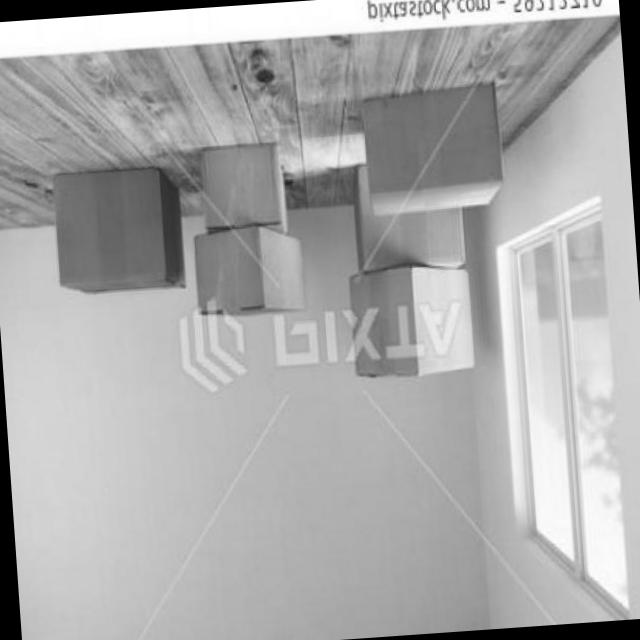box: (349, 44, 521, 230), (42, 135, 195, 304), (340, 252, 490, 391), (346, 142, 482, 288), (186, 212, 314, 334), (192, 124, 300, 244)
